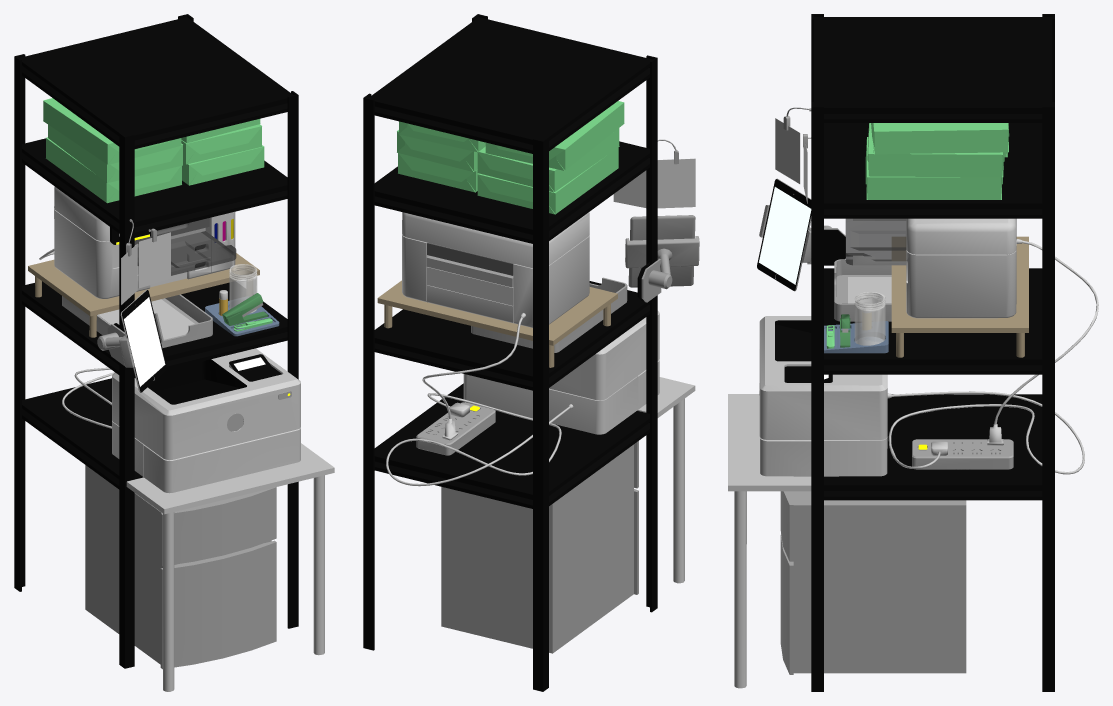
The model's file is BK_Dollhouse_2.glb.
3 views of the same model, side by side, from view 1: azimuth 30°, elevation 25°; view 2: azimuth 150°, elevation 25°; view 3: azimuth 270°, elevation 25° (orthographic). The views are drawn at different scales.
Parts seen in each view (by area): view 1: Body88.001; view 2: Body88.001; view 3: Body88.001.
Boxes of the visible parts, <box> form: Body88.001: <box>14,14,334,691</box>; Body88.001: <box>363,14,699,691</box>; Body88.001: <box>728,14,1098,691</box>.
Size of the model in its own units: 0.5996 by 1.55 by 0.8906.
